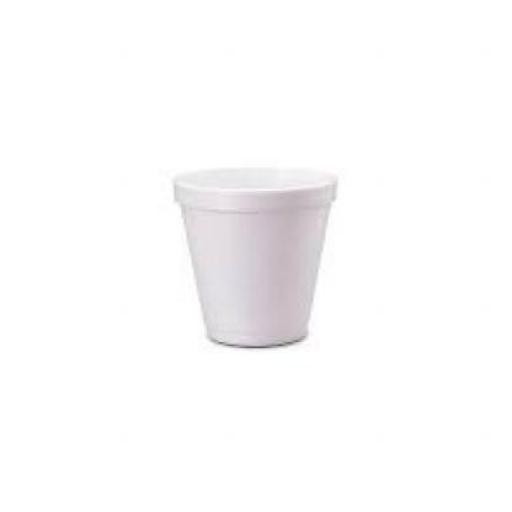paper: (172, 164, 333, 348)
